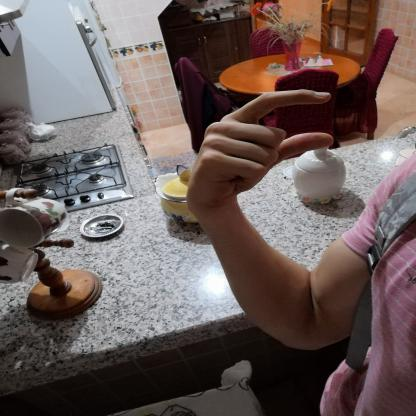DELL: (174, 79, 347, 223)
